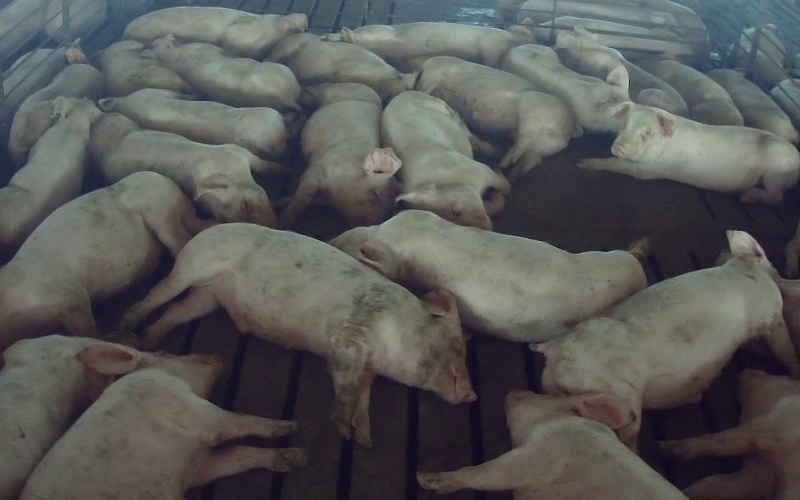pig: (124, 223, 475, 444), (537, 231, 799, 447), (21, 344, 305, 499), (331, 210, 648, 342), (0, 171, 203, 350), (417, 391, 686, 499), (578, 103, 799, 202), (89, 114, 280, 226), (0, 335, 110, 499), (381, 91, 509, 229), (285, 83, 401, 225), (0, 98, 99, 258), (99, 88, 286, 159), (142, 35, 300, 110), (555, 27, 688, 116), (8, 41, 103, 163), (502, 44, 629, 132), (269, 33, 416, 100), (124, 7, 307, 58), (341, 22, 532, 67), (707, 69, 797, 143), (100, 41, 192, 96)
